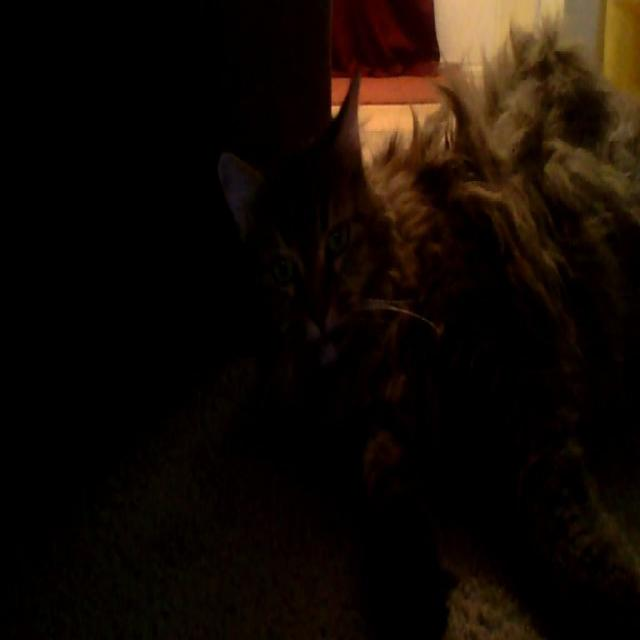Cat: (213, 8, 640, 640)
